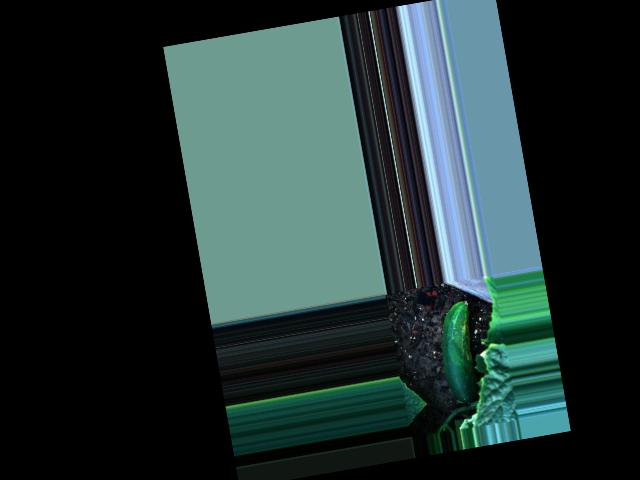cucumber: (433, 299, 485, 404)
